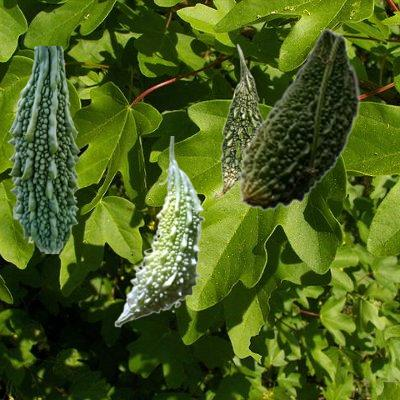ampalaya: (238, 28, 360, 210), (114, 136, 204, 326), (7, 46, 79, 252), (213, 43, 263, 197)
